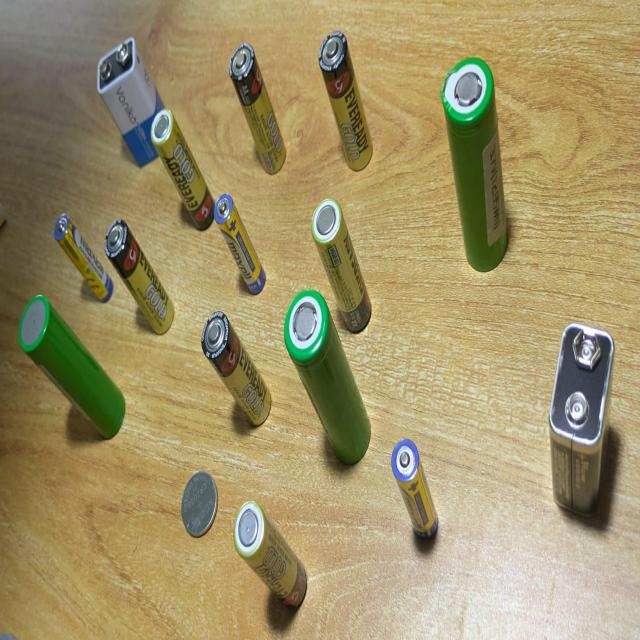9V: (546, 318, 616, 520), (98, 36, 164, 166)
AA: (233, 497, 310, 610), (310, 195, 370, 334), (104, 217, 174, 335), (150, 106, 216, 231), (202, 309, 270, 430), (228, 39, 287, 176), (318, 30, 372, 173)
AAA: (53, 211, 114, 305), (213, 192, 265, 295), (391, 438, 436, 539)
COIN: (181, 471, 217, 537)
